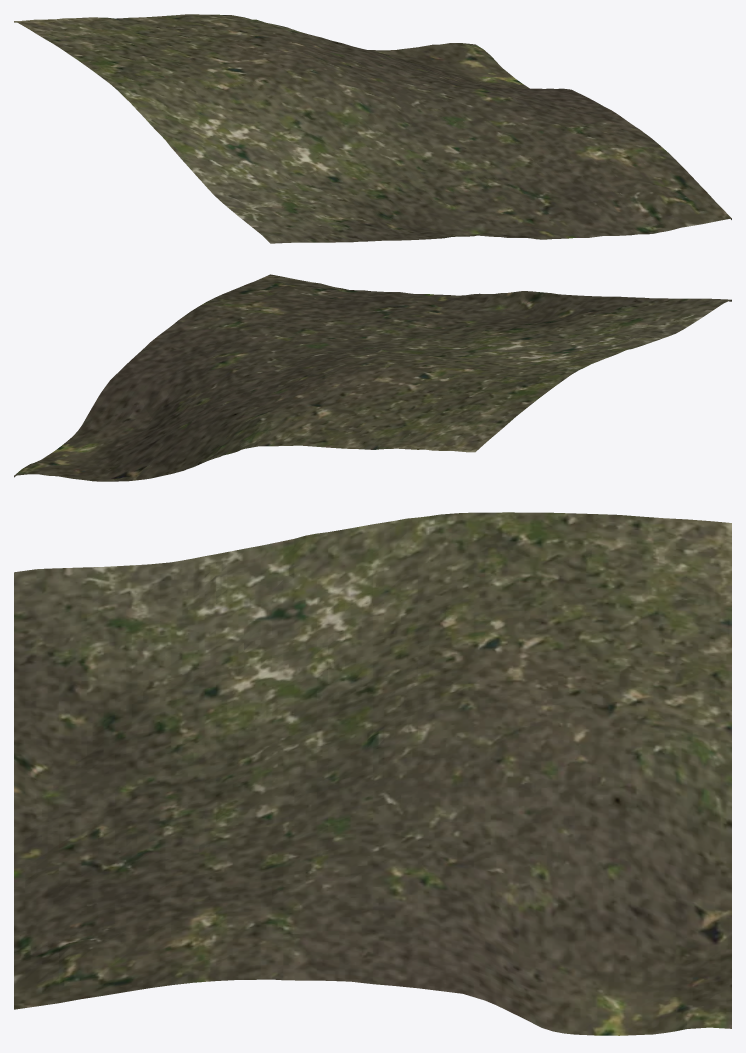
3 views of the same model, one above another, from view 1: azimuth 30°, elevation 25°; view 2: azimuth 150°, elevation 25°; view 3: azimuth 270°, elevation 25° (orthographic). The views are drawn at different scales.
Size of the model in its own units: 250 by 77.98 by 241.
1 material, 1 textured.
